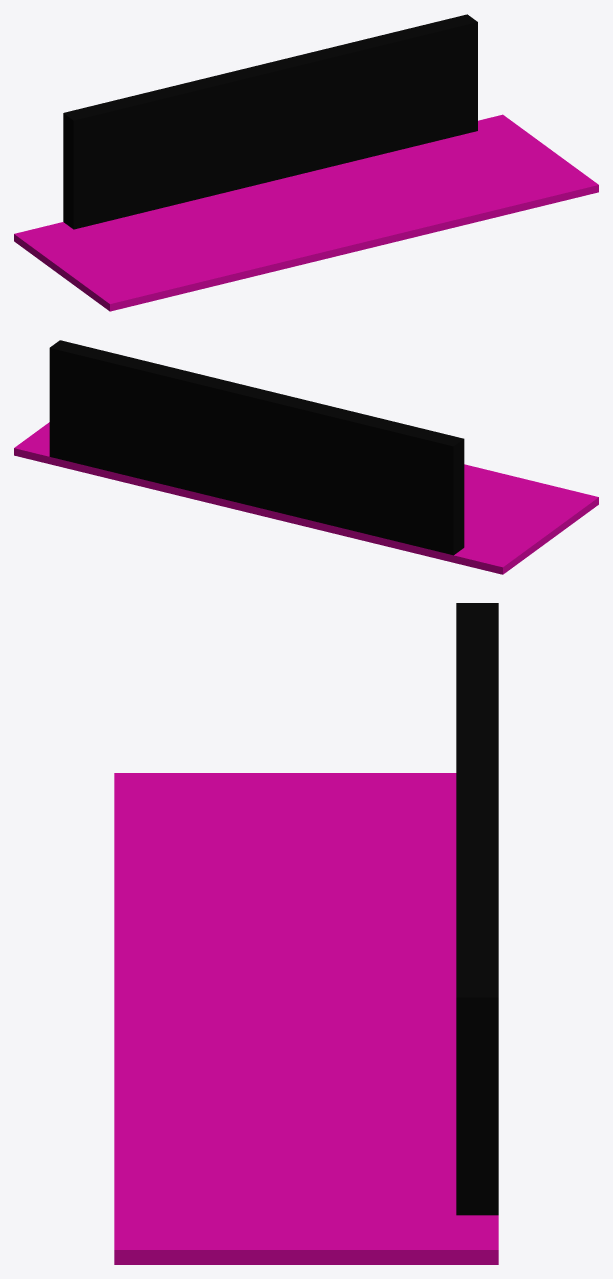
The model's file is Pianoscen-stage.fbx.
3 views of the same model, one above another, from view 1: azimuth 30°, elevation 25°; view 2: azimuth 150°, elevation 25°; view 3: azimuth 270°, elevation 25° (orthographic). The views are drawn at different scales.
Visible parts, largest first — view 1: PianoStage; view 2: PianoStage; view 3: PianoStage.
Boxes of the visible parts, <box> form: PianoStage: <box>14,14,598,311</box>; PianoStage: <box>14,340,598,574</box>; PianoStage: <box>114,603,498,1264</box>.
Size of the model in its own units: 1470 by 334 by 500.
